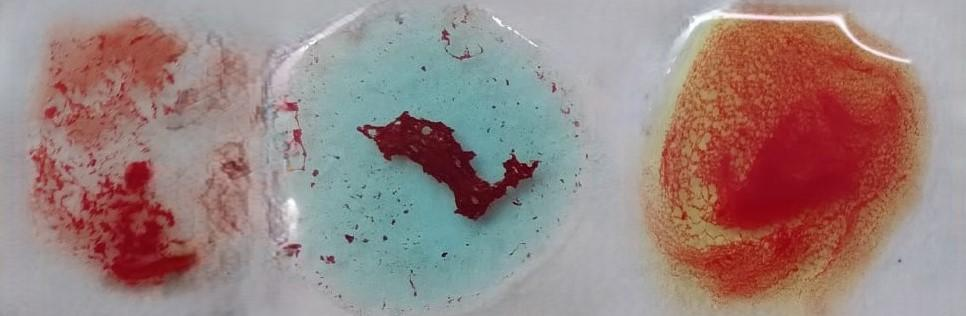A: (280, 9, 545, 316)
B: (669, 8, 915, 316)
D: (41, 29, 260, 282)
